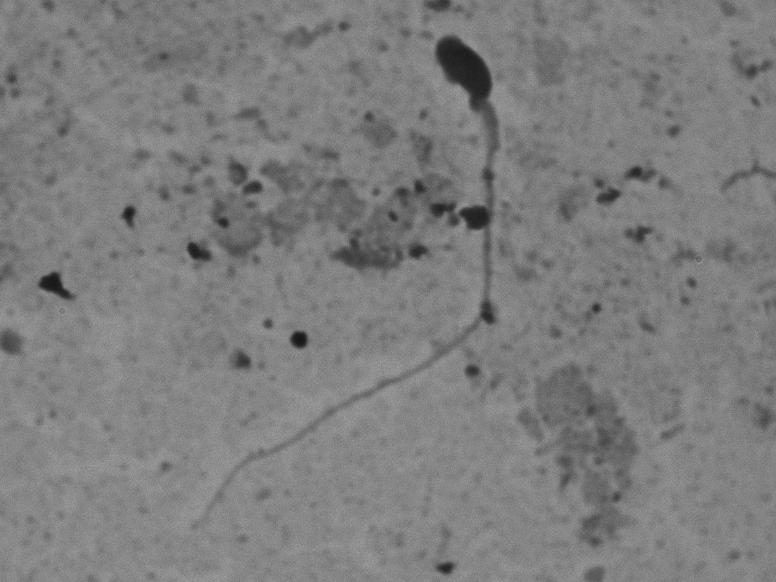Abnormal: (193, 25, 553, 545)
